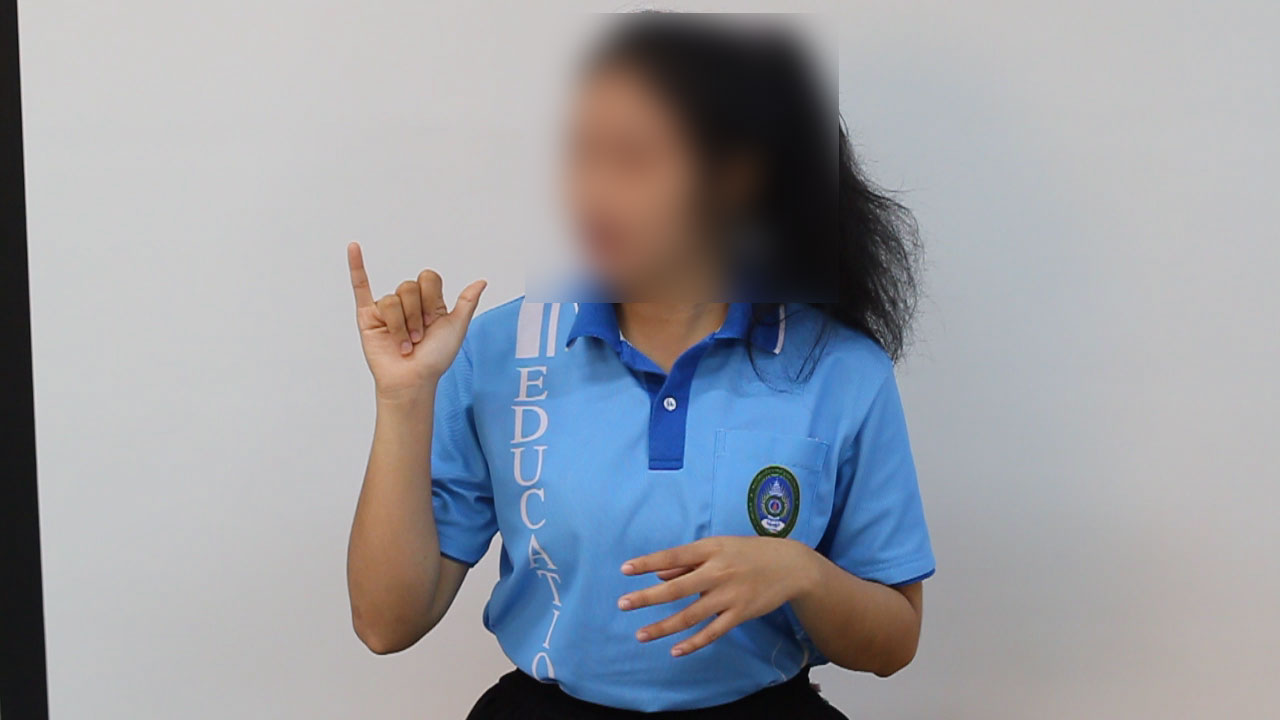yor: (332, 234, 495, 409)
